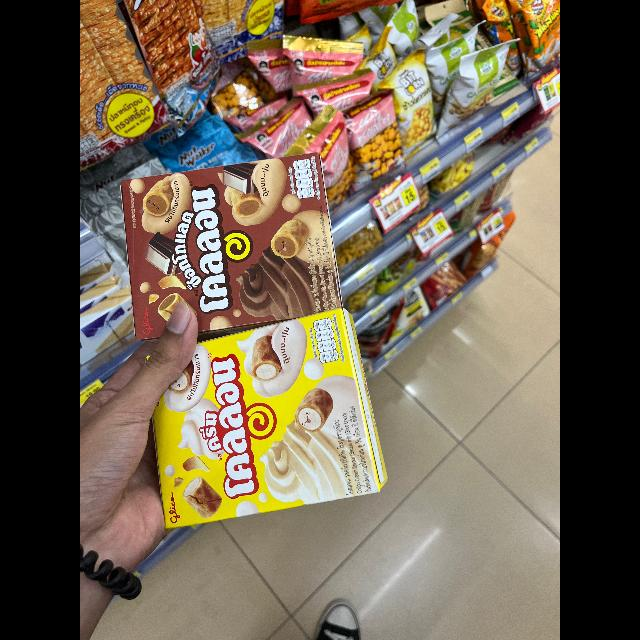cardboard_box: (138, 294, 388, 540), (116, 146, 354, 376)
